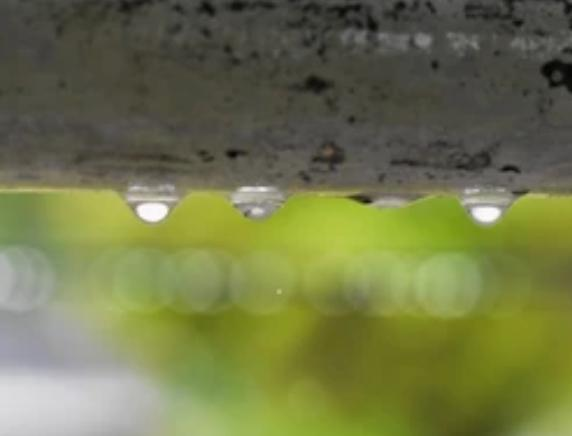water drop: (118, 184, 188, 222), (458, 188, 518, 225), (230, 187, 290, 221)
